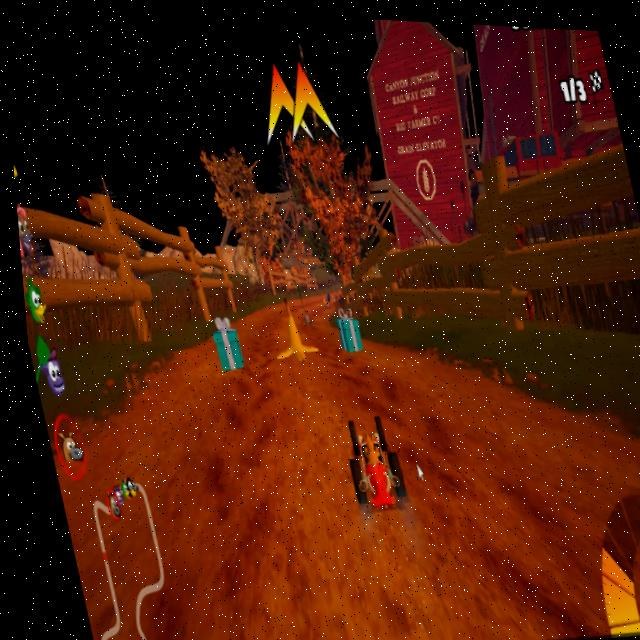bonus: (198, 306, 243, 376), (327, 302, 364, 359)
obstacle: (256, 294, 311, 375)
off_track: (371, 211, 628, 366)
player_kart: (326, 406, 403, 512)
track: (156, 374, 359, 598)
